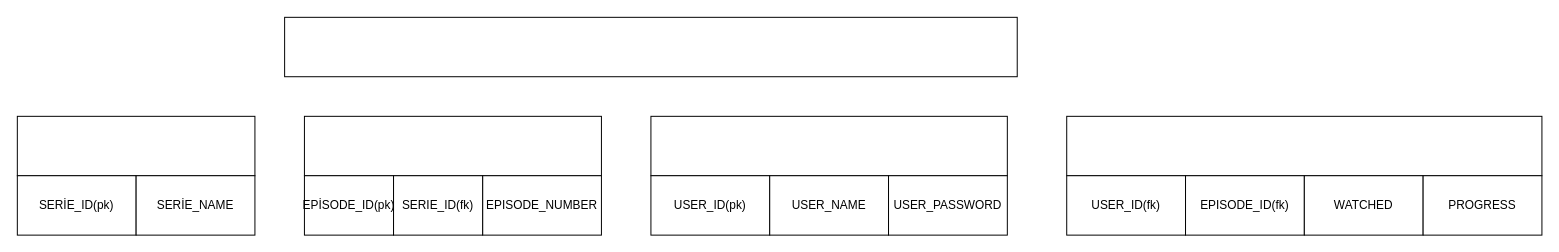
The diagram is 1559 pixels wide and 252 high, and some of its shapes have lost their labels. Here are the shapes that lost their labels. From the top down, the centre of each, then its label:
point (650, 46): VİDEO-HUB DB SCHEME
point (135, 145): SERİES
point (452, 145): EPİSODES
point (828, 145): USER
point (1304, 145): USER EPİSODE
